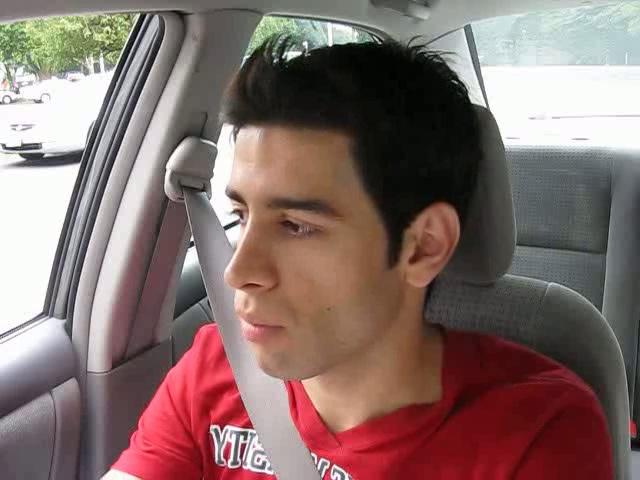no_yawn: (217, 298, 303, 355)
open_eyeL: (212, 193, 254, 229)
open_eyeR: (263, 200, 343, 250)
